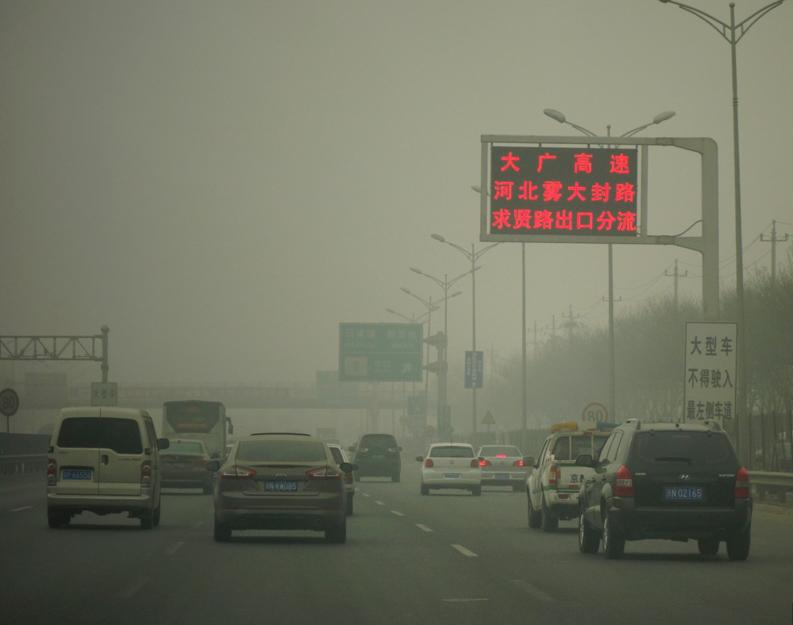bus: (519, 427, 636, 533), (164, 396, 233, 471)
car: (575, 415, 757, 561), (201, 434, 354, 541), (43, 403, 170, 530), (294, 439, 358, 520), (143, 435, 215, 495), (415, 441, 486, 496), (468, 440, 527, 494), (348, 431, 404, 483)
